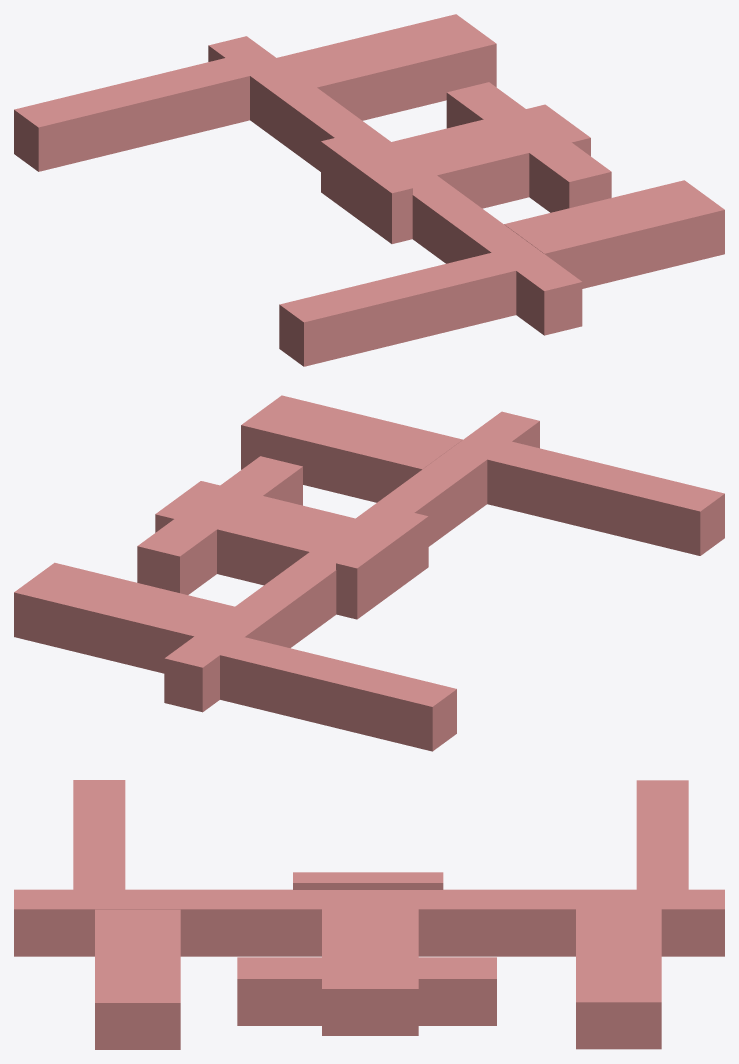
Rendered from GUK.obj.
3 views of the same model, one above another, from view 1: azimuth 30°, elevation 25°; view 2: azimuth 150°, elevation 25°; view 3: azimuth 270°, elevation 25° (orthographic). The views are drawn at different scales.
Parts seen in each view (by area): view 1: Boc002; view 2: Boc002; view 3: Boc002.
Part boxes in pixels (<box>): Boc002: <box>14,14,724,366</box>; Boc002: <box>14,395,724,751</box>; Boc002: <box>14,780,724,1049</box>.
Size of the model in its own units: 102 by 11.46 by 137.
